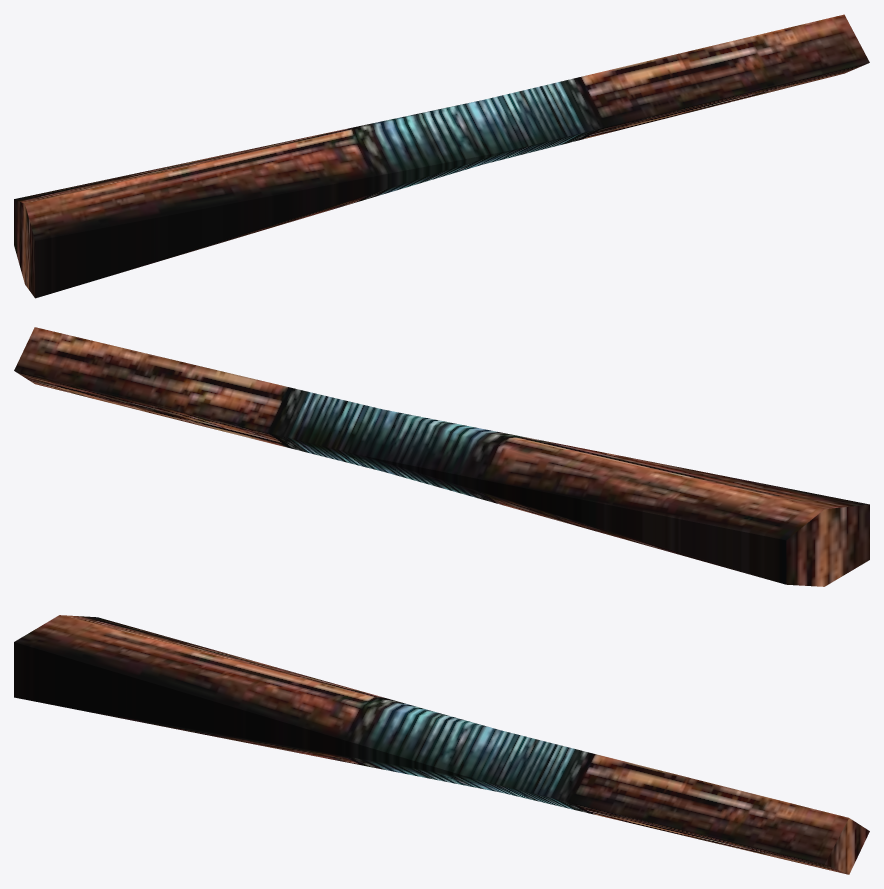
Rendered from PODSTAWOWA_REKOJESC.glb.
3 renders of one model, top to bottom at view 1: azimuth 30°, elevation 25°; view 2: azimuth 150°, elevation 25°; view 3: azimuth 330°, elevation 25°, orthographic. The views are drawn at different scales.
Parts seen in each view (by area): view 1: PODSTAWOWA_REKOJESC; view 2: PODSTAWOWA_REKOJESC; view 3: PODSTAWOWA_REKOJESC.
Part boxes in pixels (<box>): PODSTAWOWA_REKOJESC: <box>14,14,869,298</box>; PODSTAWOWA_REKOJESC: <box>14,327,869,586</box>; PODSTAWOWA_REKOJESC: <box>14,615,869,874</box>.
Bounding box in the file's own units: 0.3735 × 0.0343 × 0.0417.
1 material, 1 textured.
